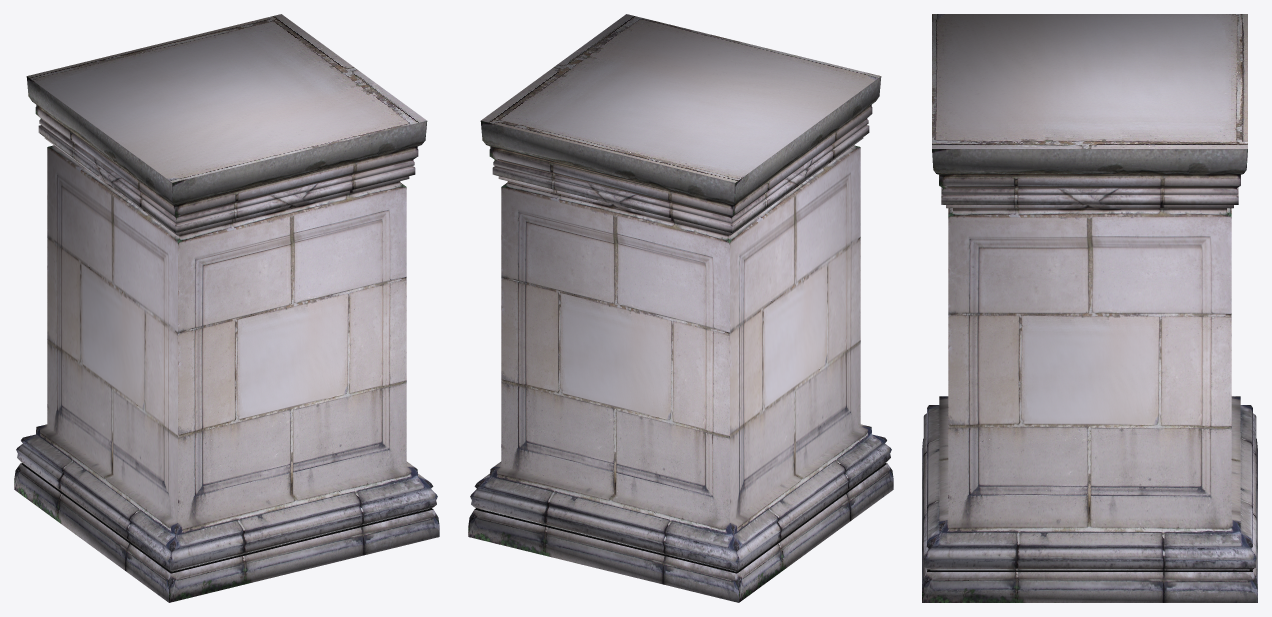
The model's file is column.glb.
3 views of the same model, side by side, from view 1: azimuth 30°, elevation 25°; view 2: azimuth 150°, elevation 25°; view 3: azimuth 270°, elevation 25° (orthographic). The views are drawn at different scales.
Parts seen in each view (by area): view 1: Cube; view 2: Cube; view 3: Cube.
Part boxes in pixels (bbox=[...]): Cube: bbox=[14, 14, 439, 602]; Cube: bbox=[468, 14, 893, 602]; Cube: bbox=[922, 14, 1257, 602].
Bounding box in the file's own units: 1.19 × 1.74 × 1.17.
1 material, 1 textured.
